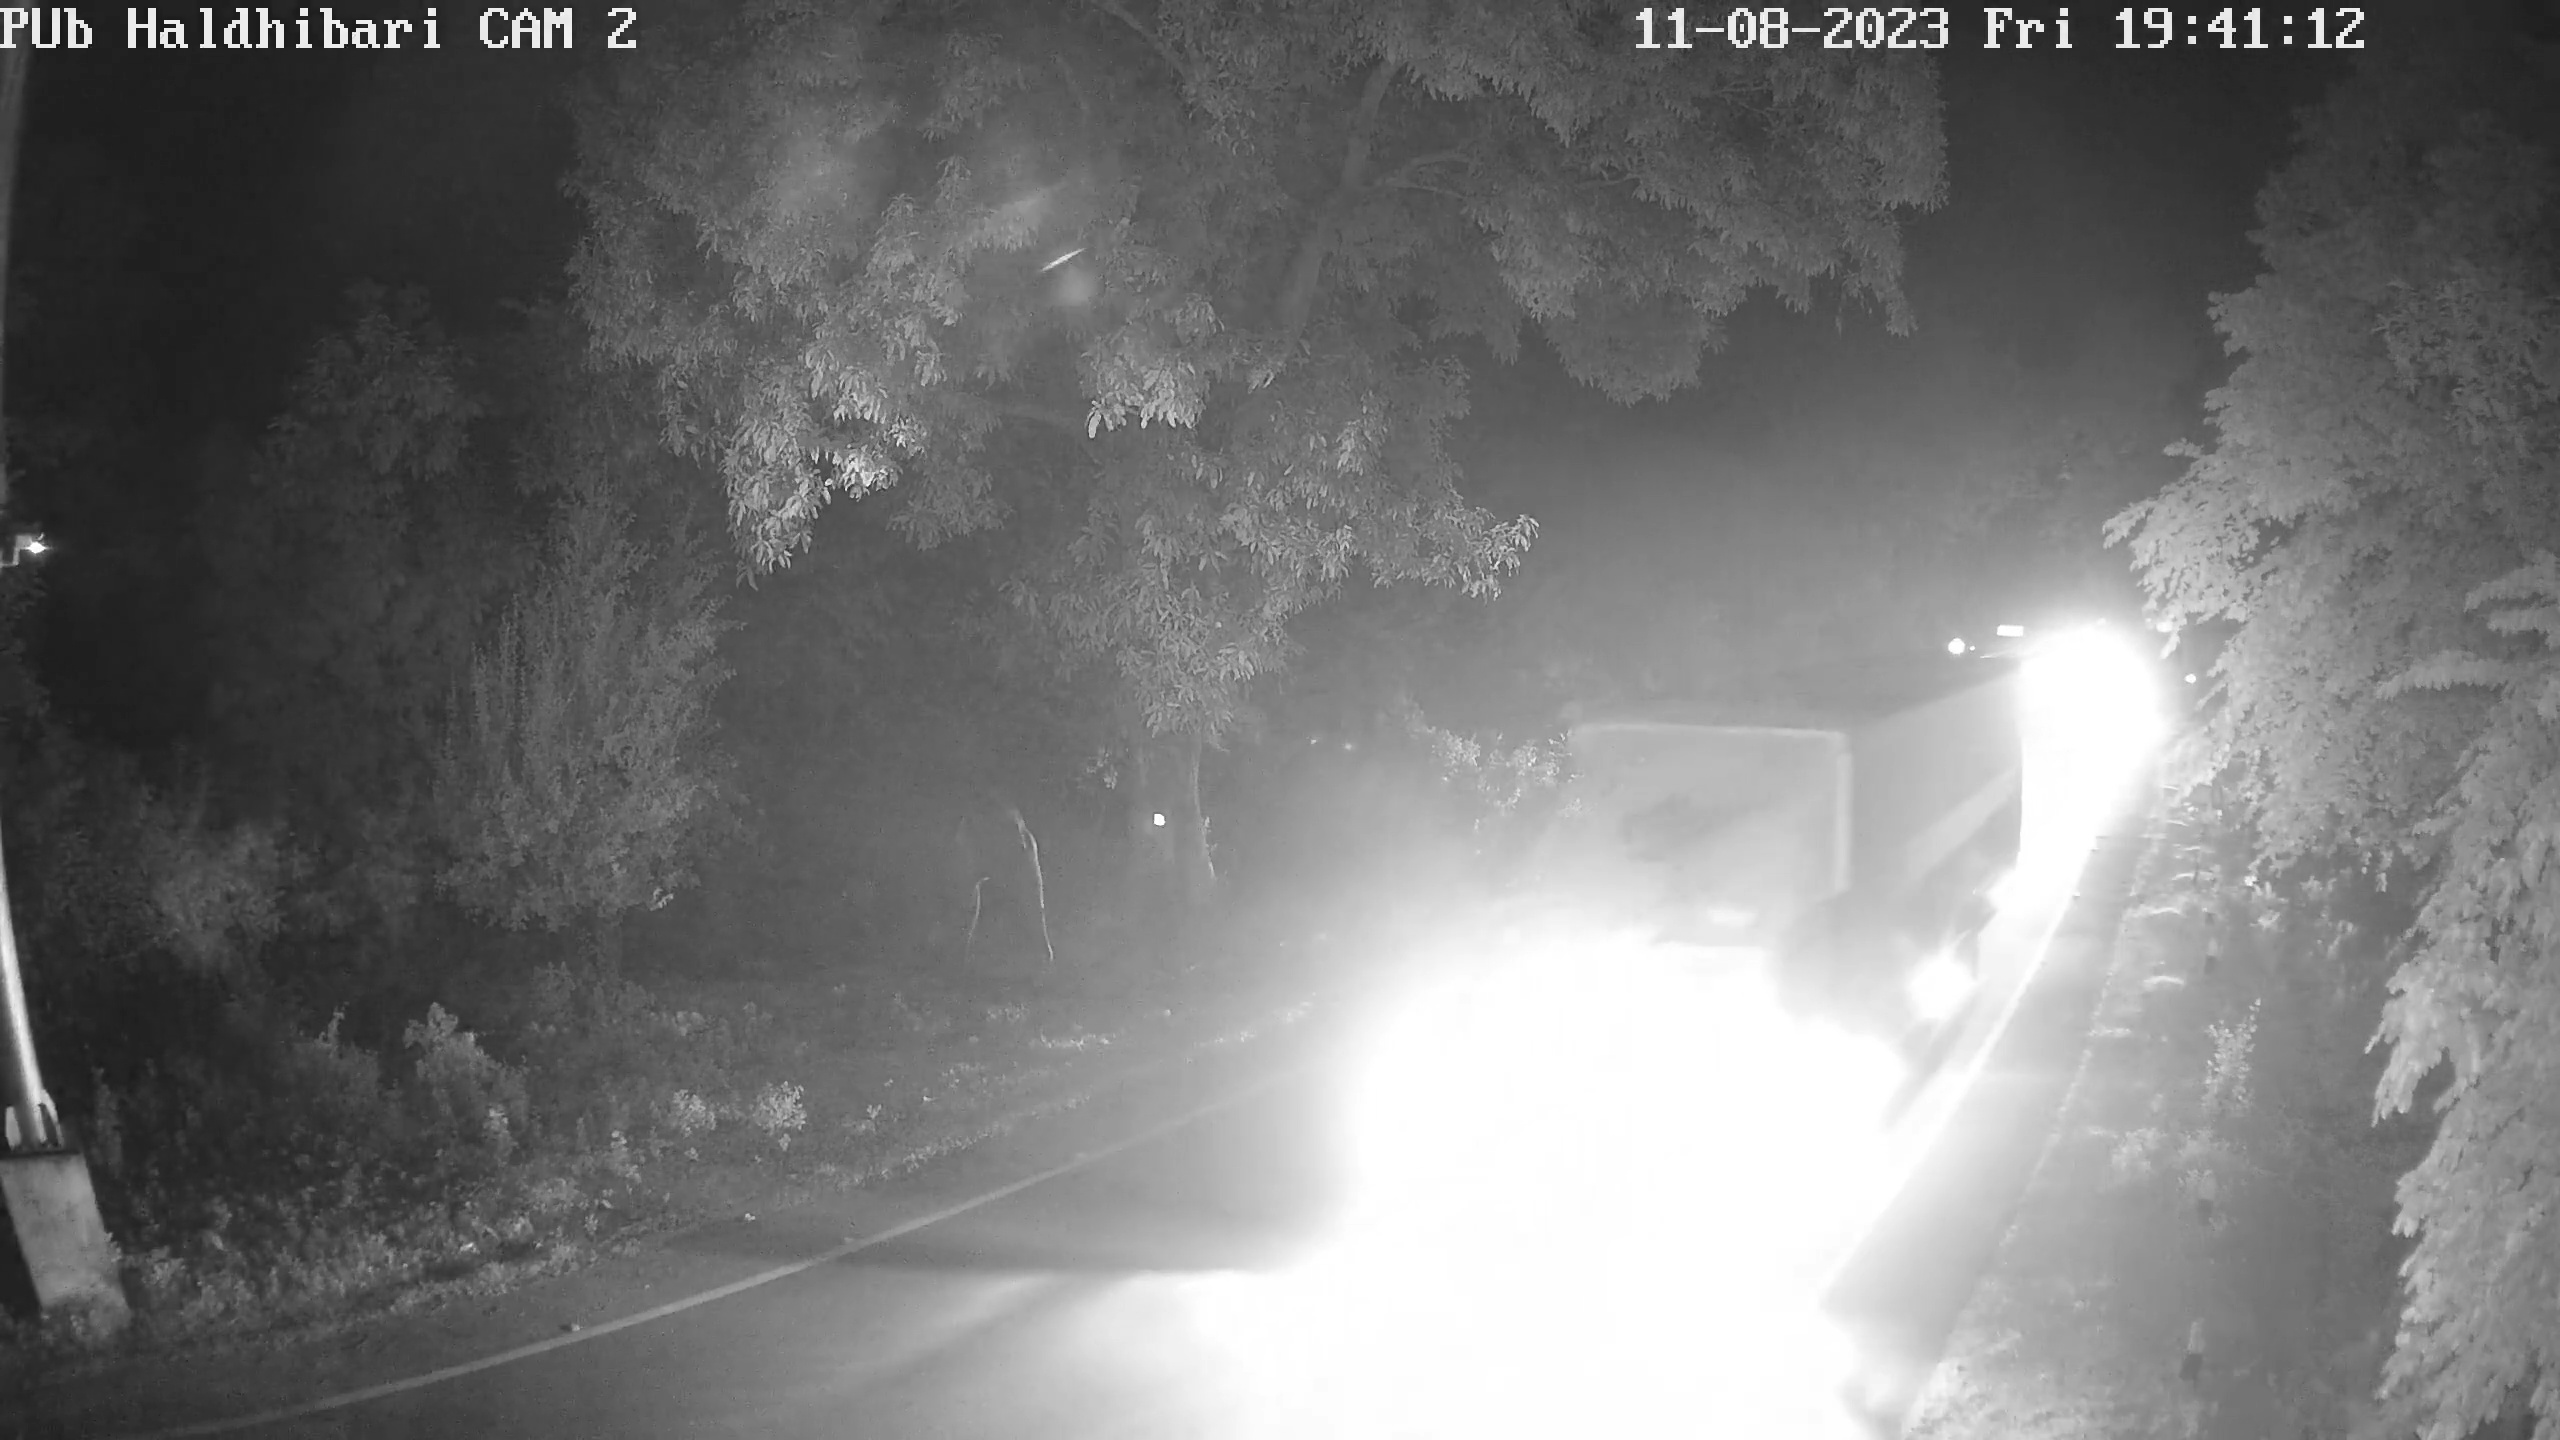elephants: (833, 793, 1062, 986)
